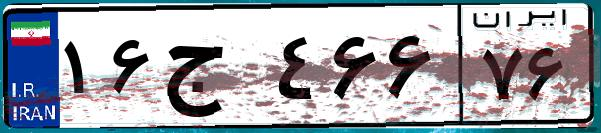1: (57, 26, 110, 100)
4: (270, 28, 330, 110)
6: (385, 28, 445, 110), (330, 28, 385, 110), (525, 38, 570, 115), (110, 28, 158, 98)
7: (475, 38, 525, 113)
ج: (158, 20, 270, 120)
